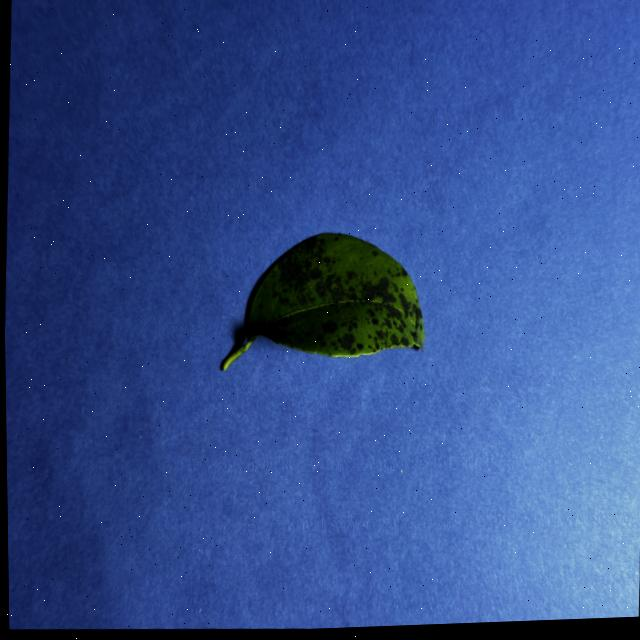sooty_mold: (222, 232, 424, 368)
